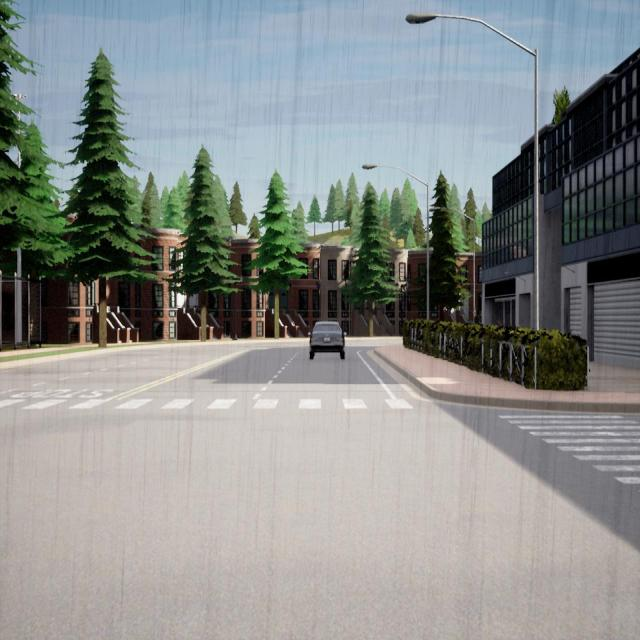Vehicle: (310, 322, 344, 359)
